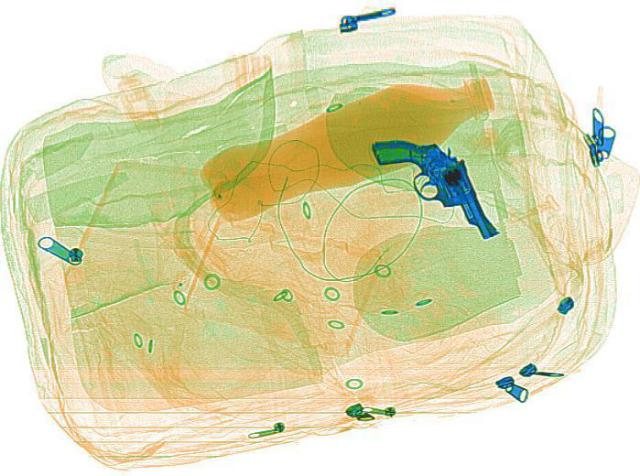Gun: (360, 116, 528, 242)
